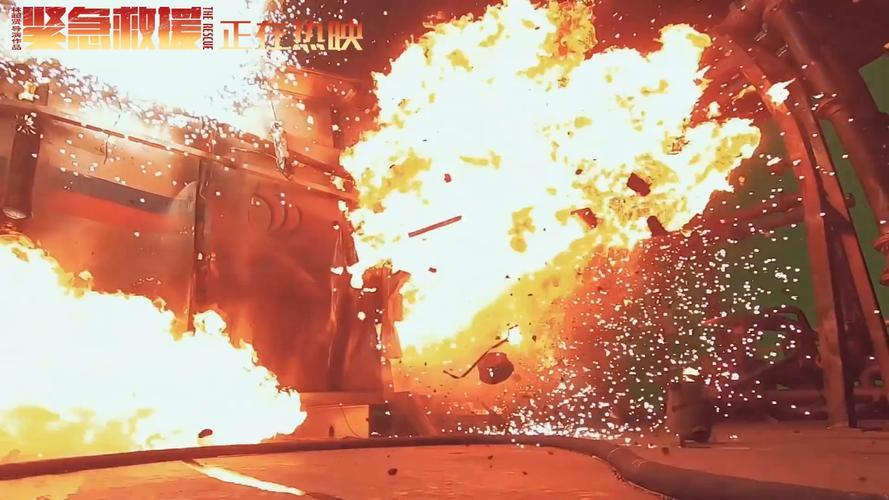fire: (338, 2, 772, 371), (0, 231, 306, 448)
